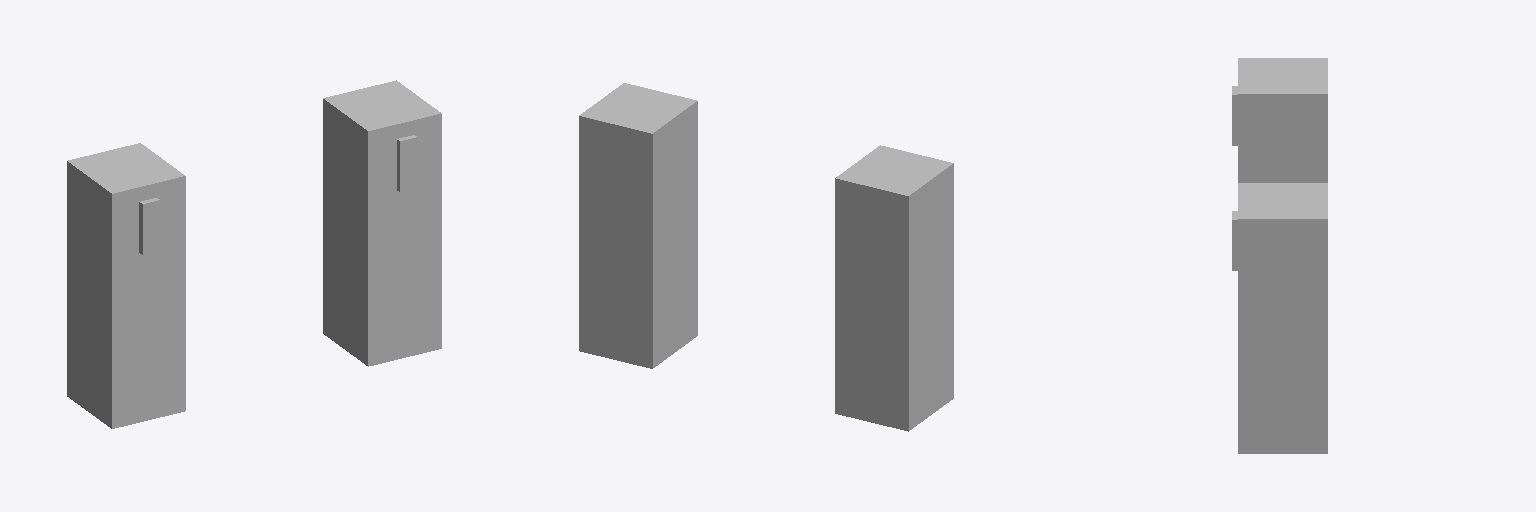
File: bear_eye.obj
The picture shows the model from 3 angles: view 1: azimuth 30°, elevation 25°; view 2: azimuth 150°, elevation 25°; view 3: azimuth 270°, elevation 25°; orthographic projection.
Visible parts, largest first — view 1: pCube17, pCube16, pCube19, pCube18; view 2: pCube16, pCube17; view 3: pCube17, pCube16.
Boxes of the visible parts, box(x1,y1,x2,y2) form: pCube17: box(323, 80, 441, 366); pCube16: box(67, 143, 185, 428); pCube19: box(139, 198, 159, 254); pCube18: box(397, 135, 417, 191); pCube16: box(835, 145, 953, 431); pCube17: box(579, 83, 697, 368); pCube17: box(1238, 183, 1327, 453); pCube16: box(1238, 58, 1327, 182).
Size of the model in its own units: 2.01 by 1.37 by 0.5129.